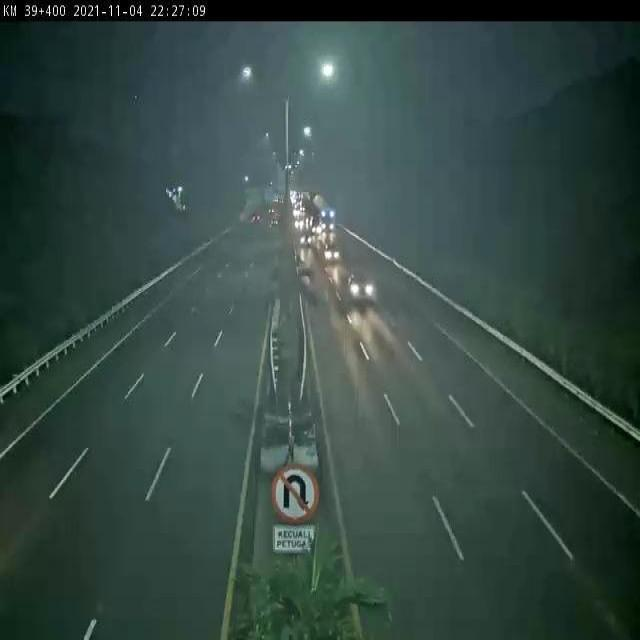car: (349, 272, 373, 305), (322, 243, 339, 263)
